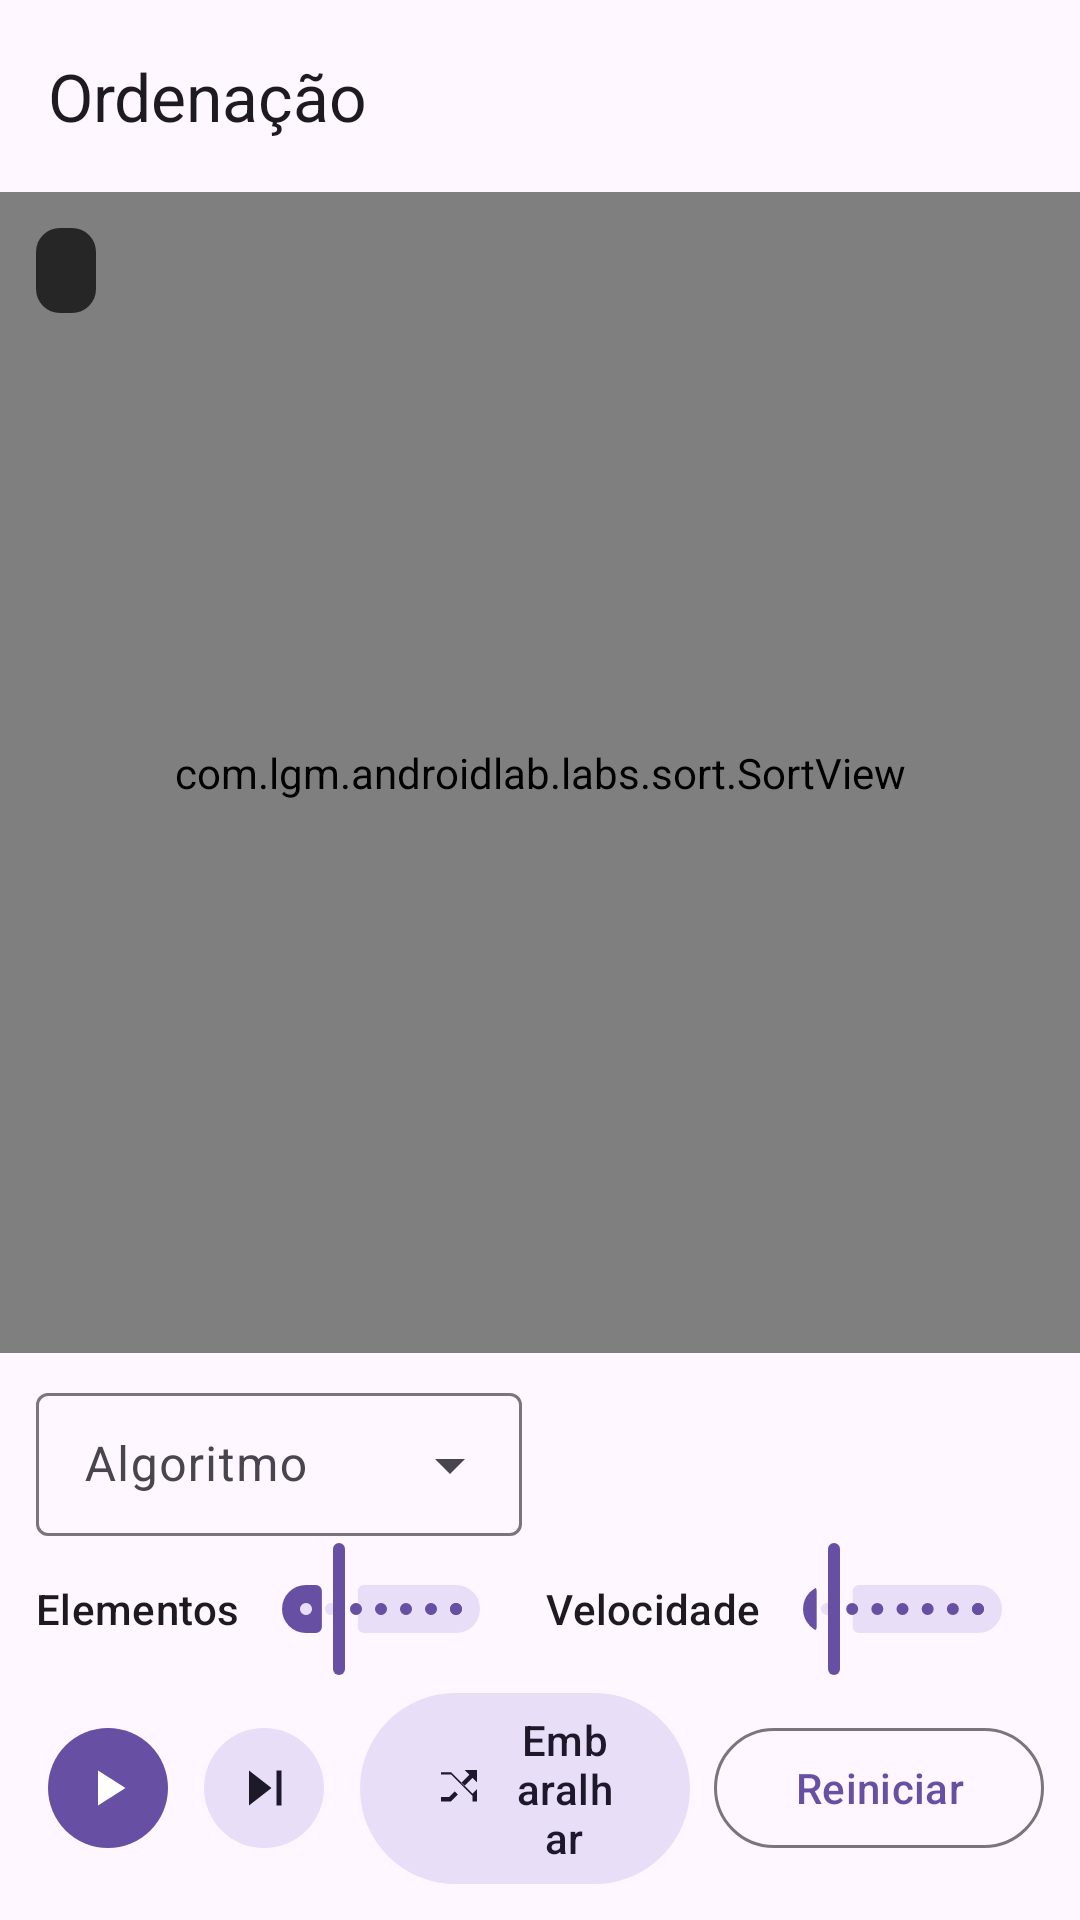

Screen size 1080w x 1920h. Icon name, then its box in pixels as (x1, y1, x2, y2):
Passo: (204, 1728, 324, 1848)
Rodar: (48, 1728, 168, 1848)
